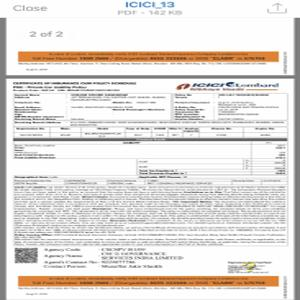image: (171, 79, 282, 94)
table: (13, 93, 288, 139), (11, 140, 288, 184)
text: (13, 186, 287, 245), (41, 247, 185, 274), (11, 79, 139, 91)
